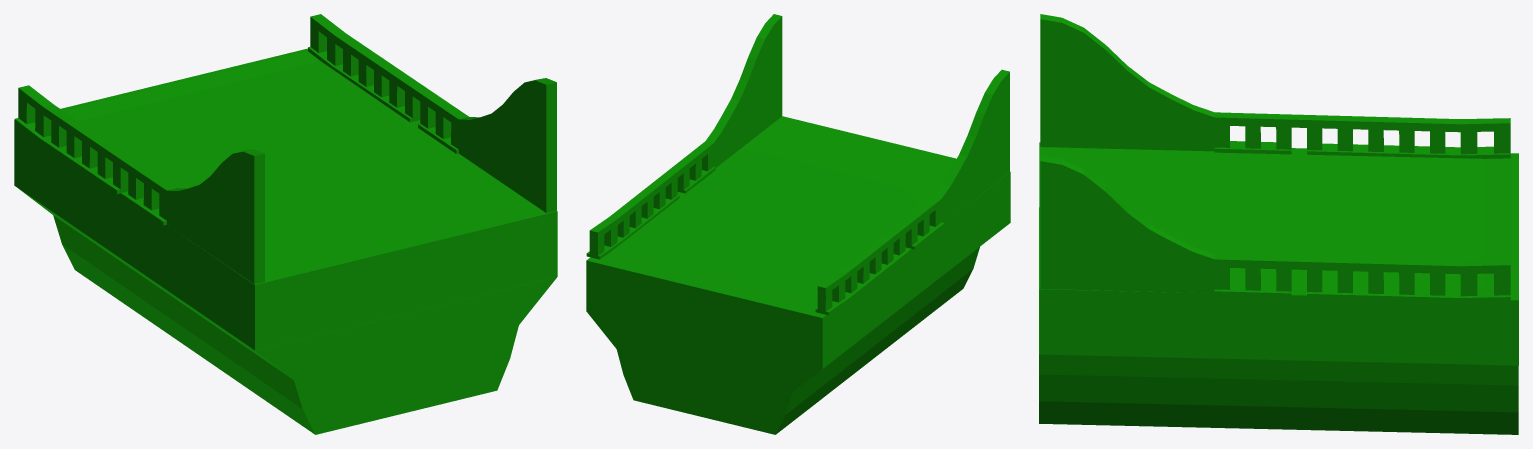
The model's file is CubiertaDesdePopa_Model.fbx.
3 views of the same model, side by side, from view 1: azimuth 30°, elevation 25°; view 2: azimuth 150°, elevation 25°; view 3: azimuth 270°, elevation 25° (orthographic). The views are drawn at different scales.
Parts seen in each view (by area): view 1: CubiertaDesdePopa; view 2: CubiertaDesdePopa; view 3: CubiertaDesdePopa.
Part boxes in pixels (x1,y1,x2,y2): CubiertaDesdePopa: (14,14,557,434); CubiertaDesdePopa: (586,14,1010,434); CubiertaDesdePopa: (1039,14,1518,434).
Size of the model in its own units: 215 by 202 by 290.
